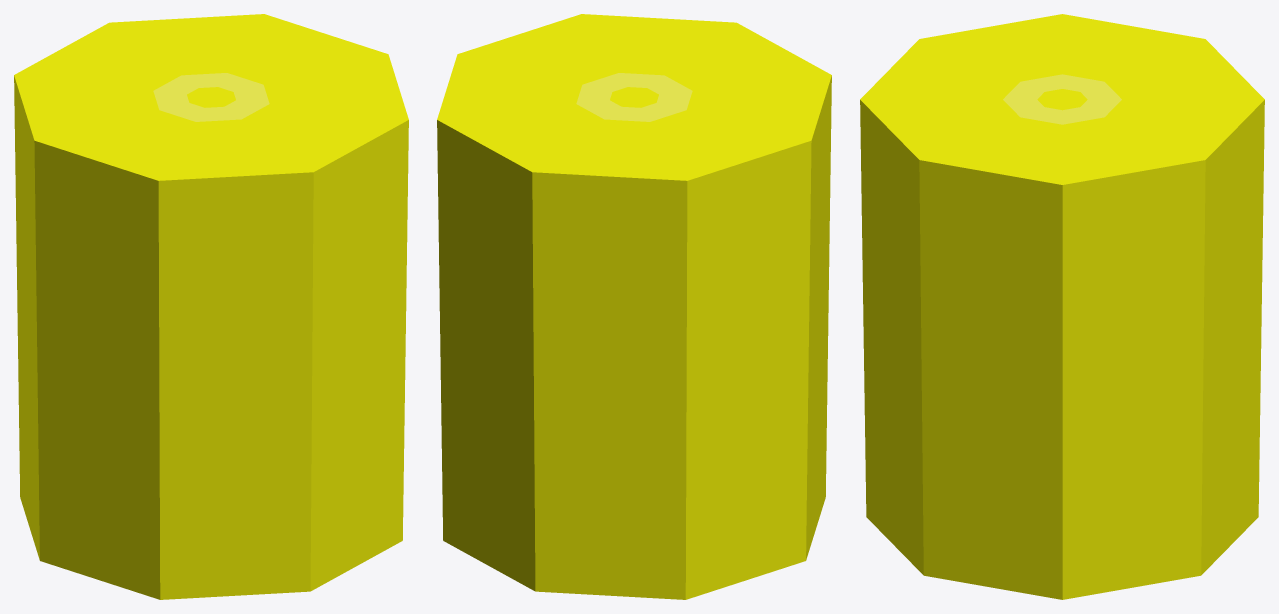
The model's file is pineapple03.obj.
3 renders of one model, left to right at view 1: azimuth 30°, elevation 25°; view 2: azimuth 150°, elevation 25°; view 3: azimuth 270°, elevation 25°, orthographic.
Parts seen in each view (by area): view 1: Cylinder; view 2: Cylinder; view 3: Cylinder.
Boxes of the visible parts, x1,y1,x2,y2 form: Cylinder: (14,14,408,599); Cylinder: (437,14,831,599); Cylinder: (860,14,1264,599).
Size of the model in its own units: 0.1077 by 0.1226 by 0.1077.
Materials: 1 (1 with a texture image).
